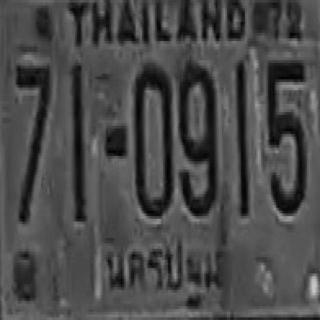N00: (133, 61, 172, 215)
N01: (70, 63, 85, 222), (235, 60, 248, 213)
N05: (266, 58, 305, 214)
N07: (14, 63, 50, 222)
N09: (177, 60, 216, 213)
P28: (100, 232, 229, 310)
